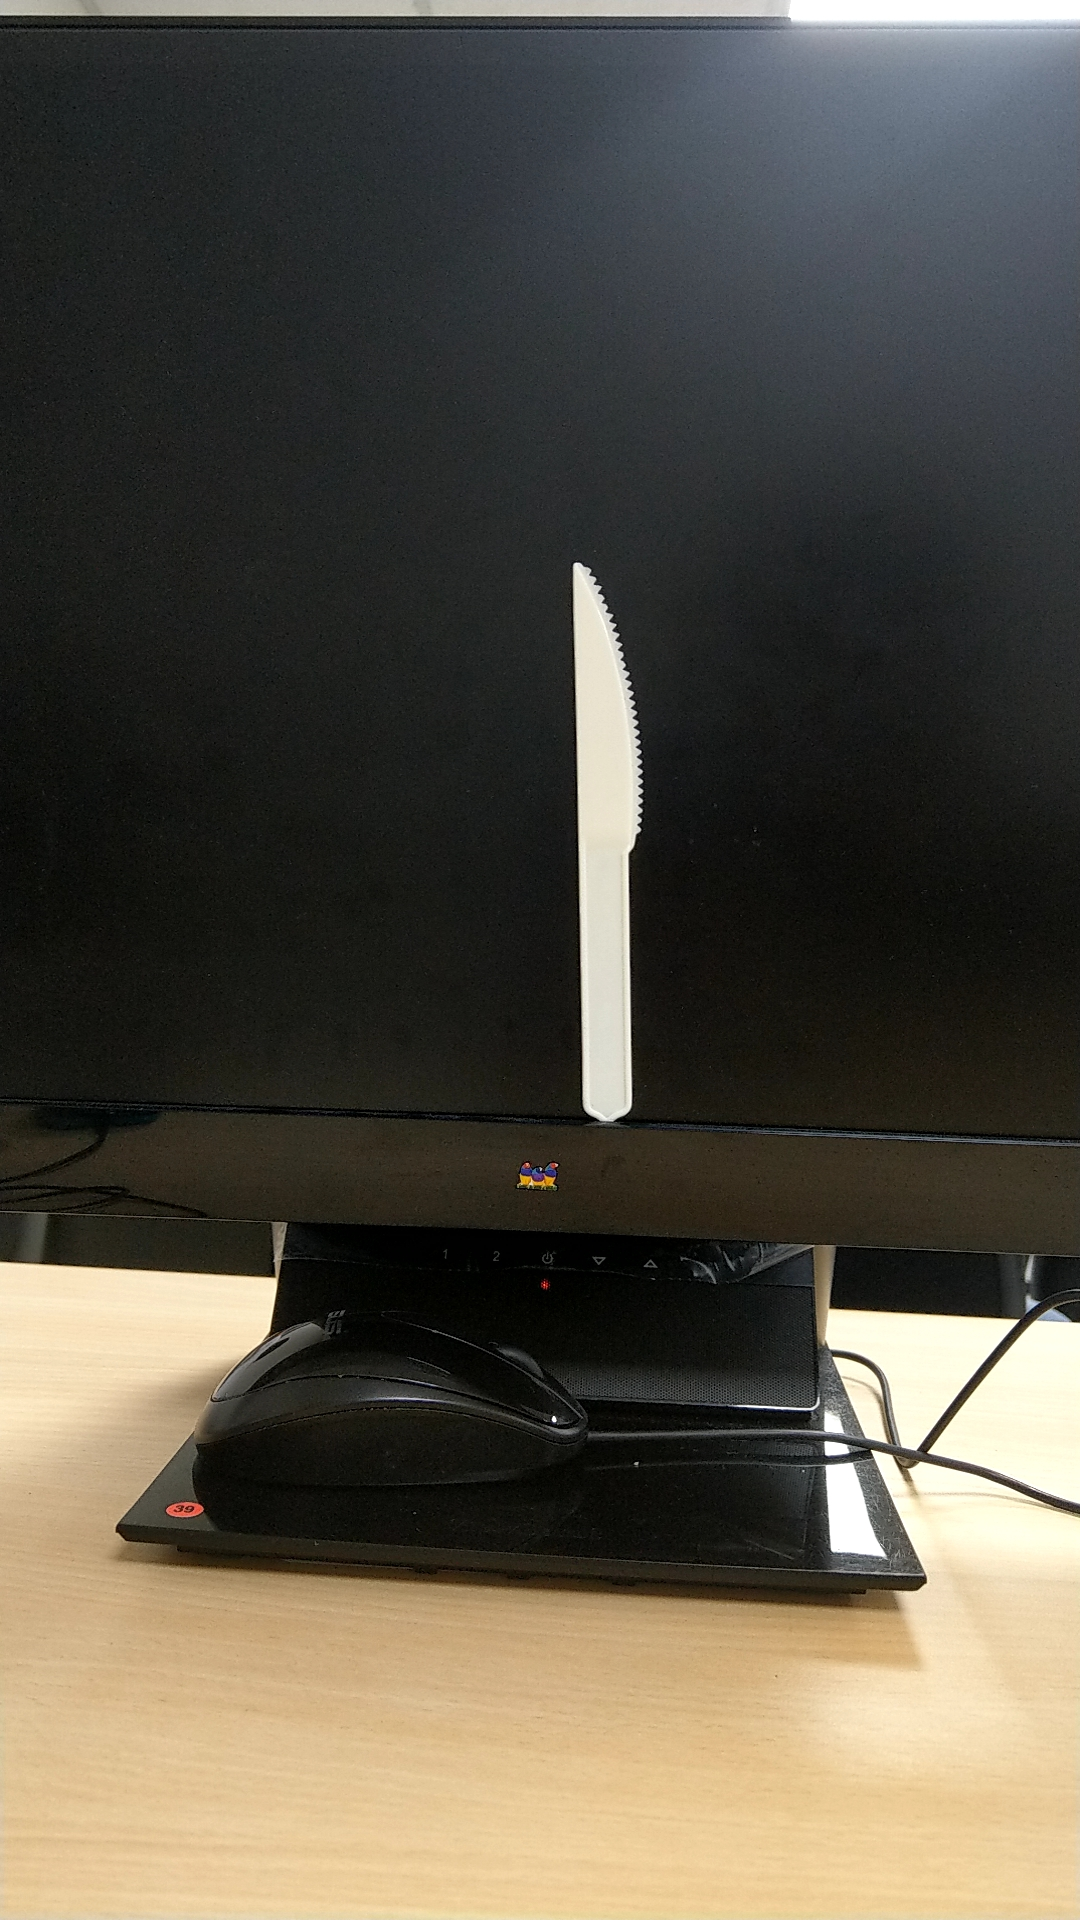knife: (524, 543, 684, 1129)
